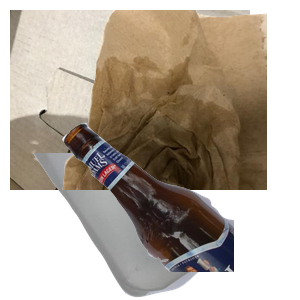cardboard: (10, 10, 250, 190)
glass: (60, 120, 300, 300)
plastic: (29, 153, 245, 300)
trash: (60, 10, 300, 190)
